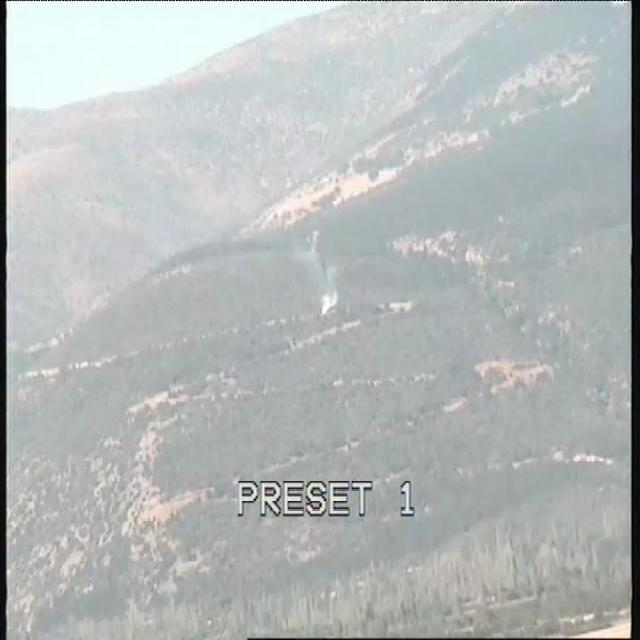smoke: (310, 273, 344, 315)
